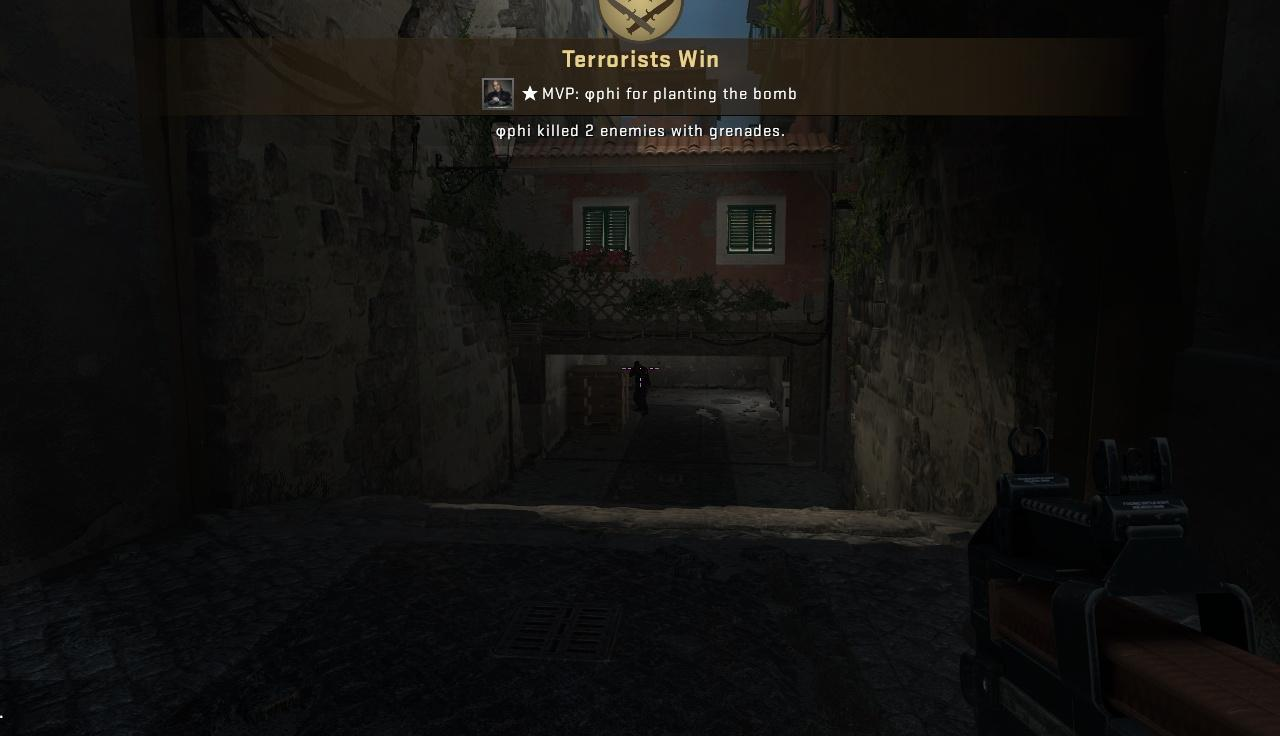ct: (632, 360, 649, 416)
rifle: (968, 427, 1280, 736)
